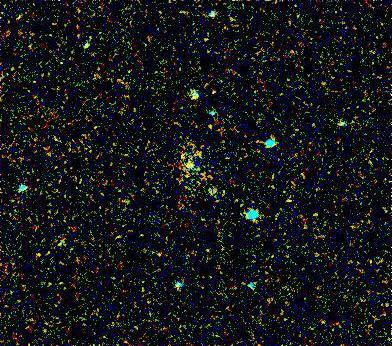star: (176, 150, 206, 180)
